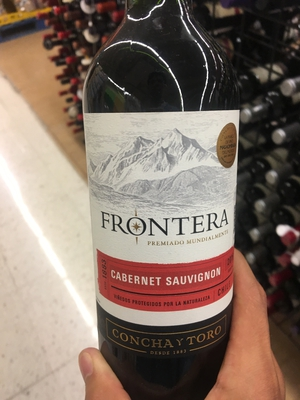frontera cabernet sauvignon: (75, 15, 253, 375)
